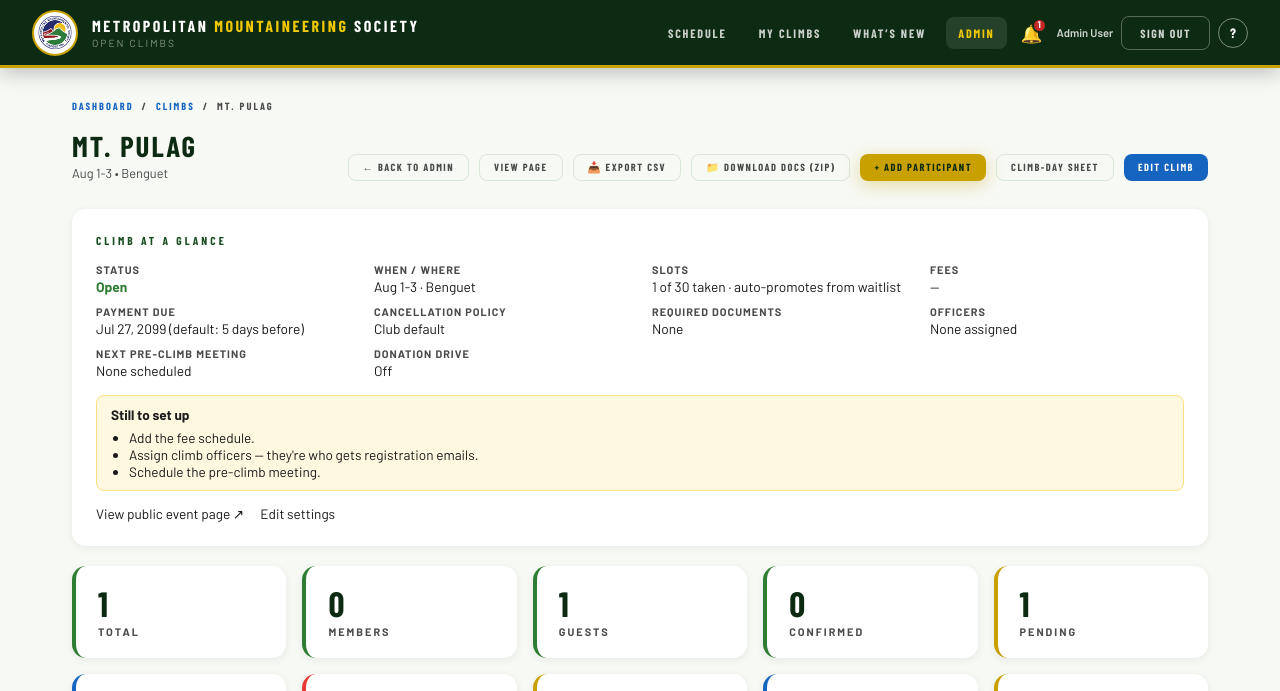
Test case: Admin ClimbDetail › fills in a picked member's saved details when adding them
This screenshot has width=1280, height=691.
Click the button "+ Add Participant".
click(923, 167)  # box [860,154,986,181]
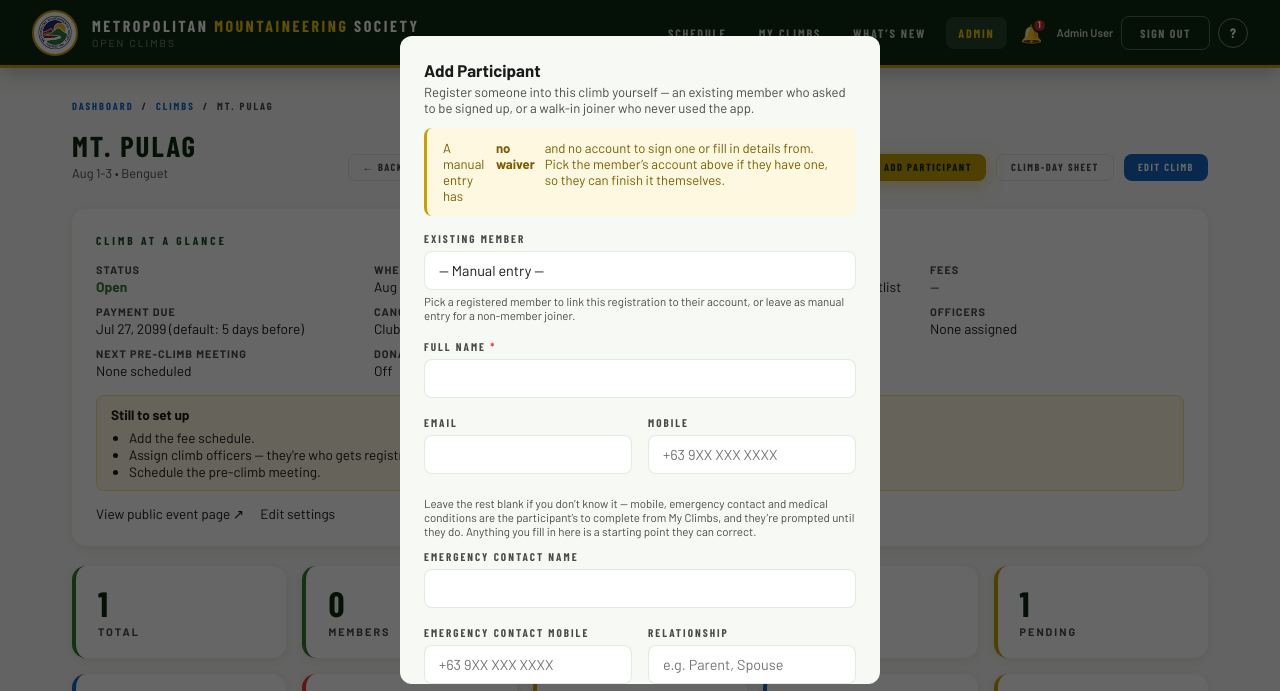
Select "Maria Santos (maria@example.com)" in the dropdown at [640, 270], box [424,251,856,290]
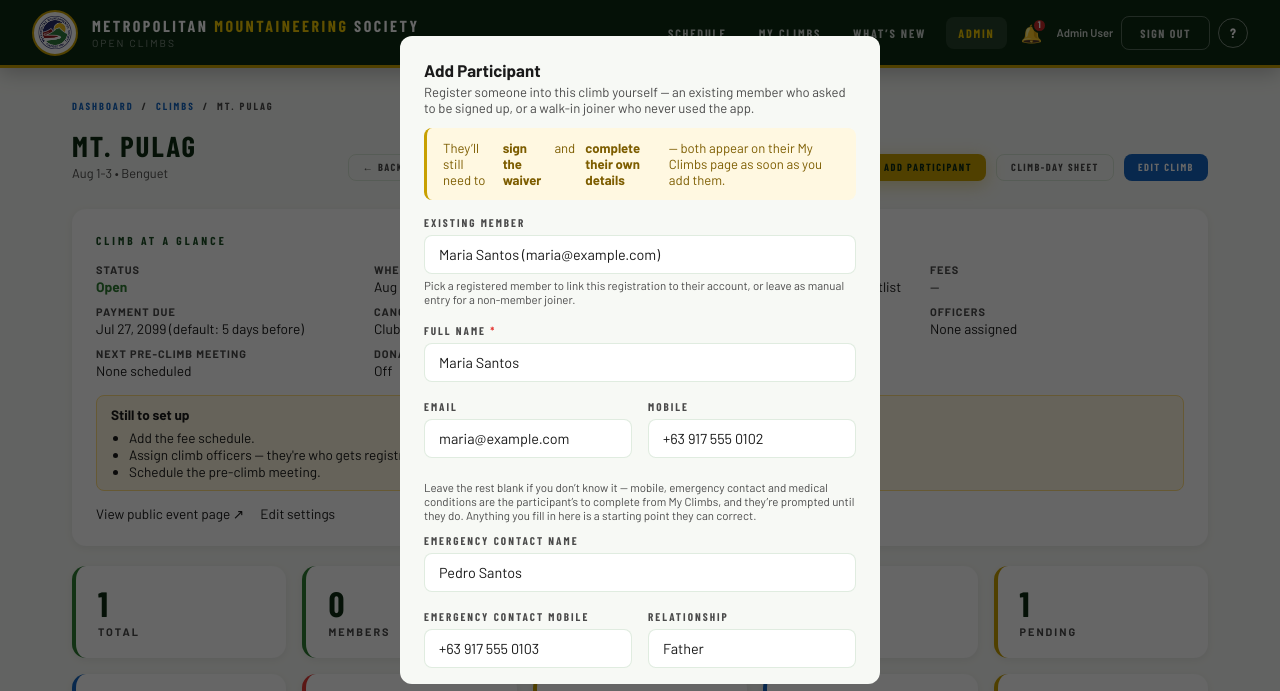
Expected: the 3rd field showing "+63 917 555 0102" is shown, [648,419,856,458]
Expected: the field showing "Pedro Santos" below "Emergency Contact Name" is shown, [424,553,856,592]
Expected: the field showing "Father" below "Relationship" is shown, [648,629,856,668]
